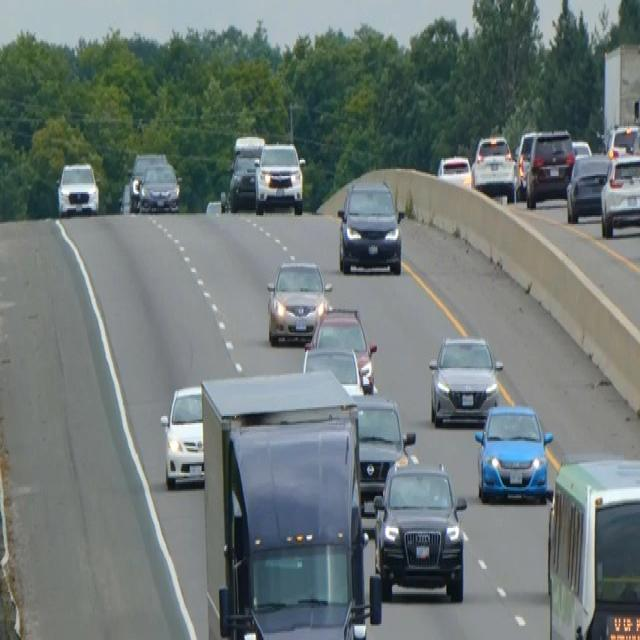bus: (546, 454, 639, 638)
car: (372, 458, 467, 602), (349, 391, 416, 514), (474, 402, 553, 503), (427, 332, 503, 425), (336, 178, 405, 276), (306, 304, 377, 389), (265, 258, 331, 345), (160, 382, 204, 489), (523, 128, 574, 206), (254, 141, 305, 215), (302, 343, 365, 397), (600, 151, 639, 237), (565, 151, 612, 222), (471, 133, 516, 203), (228, 133, 264, 208), (55, 160, 99, 217), (128, 149, 166, 210), (138, 160, 180, 213), (514, 130, 536, 196), (603, 121, 639, 158), (436, 153, 472, 188), (570, 137, 592, 160)
lorry: (199, 368, 382, 636)
